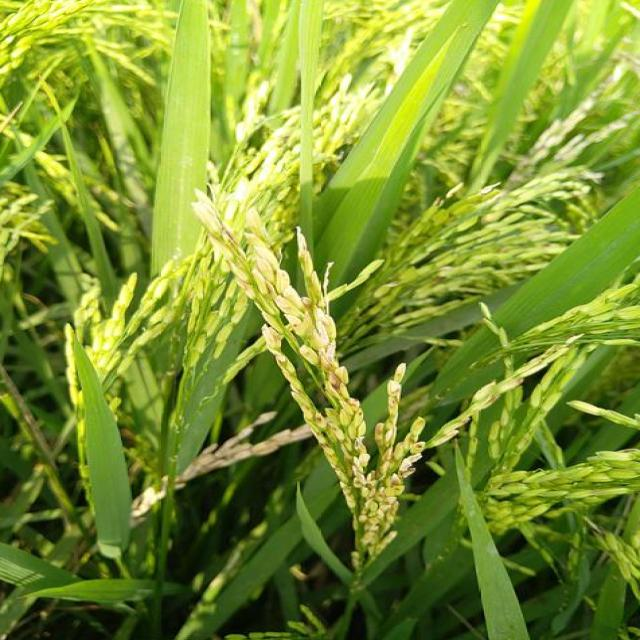Panicle Blight: (311, 430, 350, 490), (472, 378, 524, 409), (374, 381, 401, 438), (317, 349, 340, 393), (261, 325, 286, 365), (313, 414, 344, 442), (403, 417, 426, 446), (221, 223, 239, 250), (378, 497, 397, 518), (300, 297, 312, 318), (410, 442, 425, 455), (346, 397, 359, 411), (352, 437, 364, 452), (351, 476, 364, 488), (383, 450, 393, 463), (390, 475, 398, 484)
